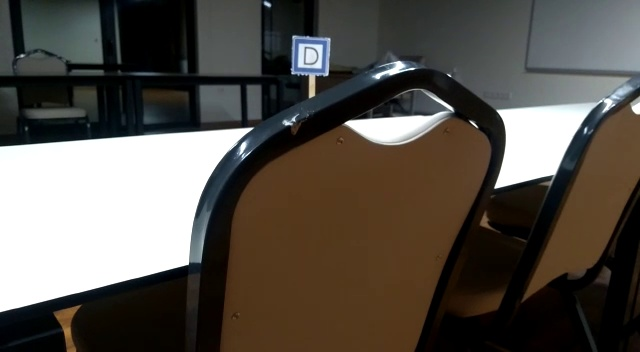durak: (291, 35, 330, 76)
